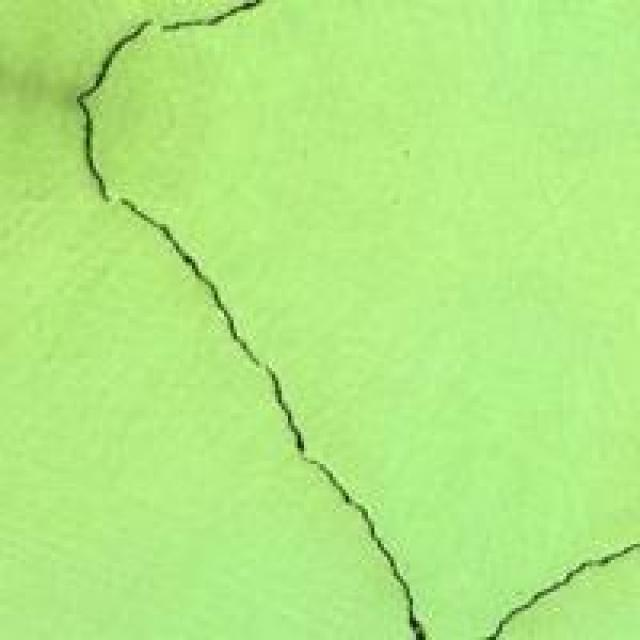Crack: (54, 0, 636, 637)
